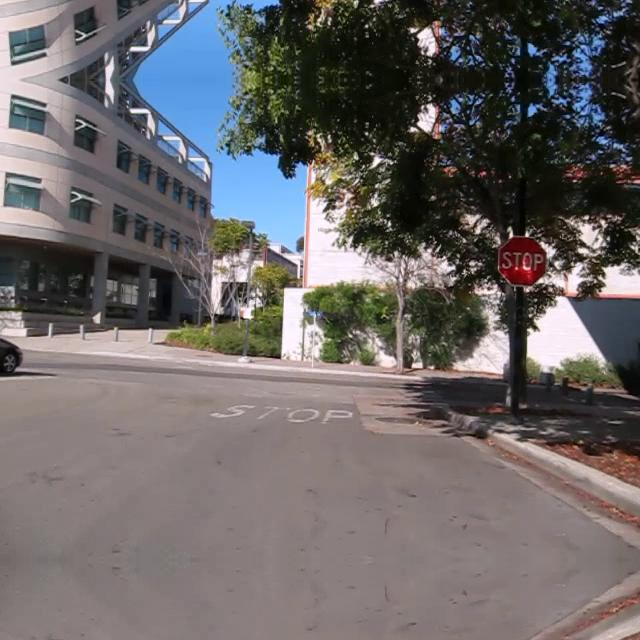stop: (496, 235, 546, 287)
